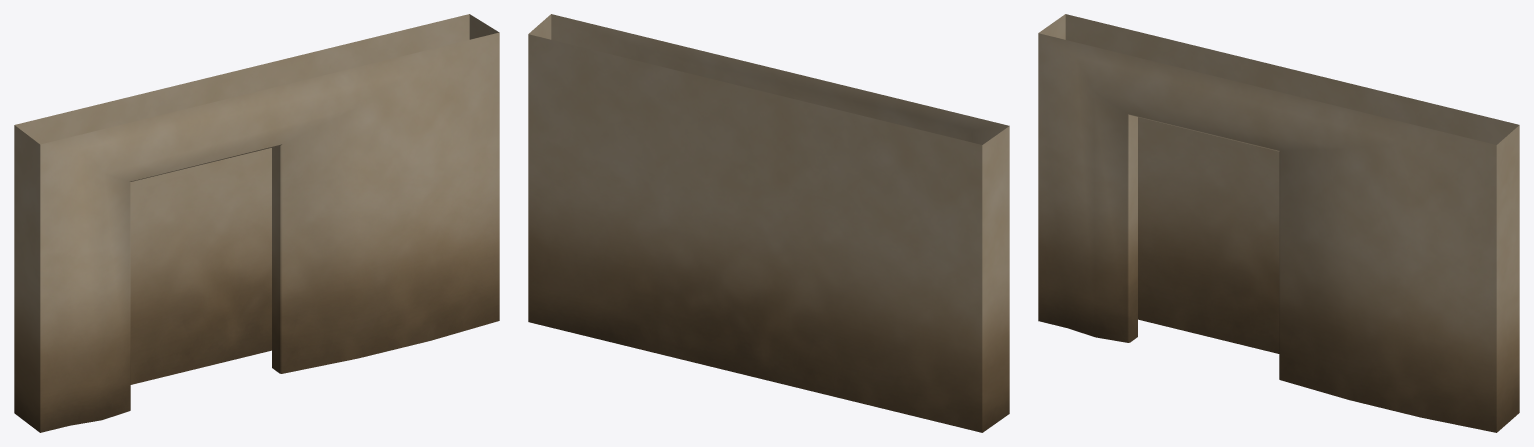
The model's file is WallShopA01.fbx.
3 views of the same model, side by side, from view 1: azimuth 30°, elevation 25°; view 2: azimuth 150°, elevation 25°; view 3: azimuth 330°, elevation 25° (orthographic).
Visible parts, largest first — view 1: WallShopA01; view 2: WallShopA01; view 3: WallShopA01.
Boxes of the visible parts, x1=… form: WallShopA01: x1=14, y1=14, x2=499, y2=432; WallShopA01: x1=528, y1=14, x2=1009, y2=432; WallShopA01: x1=1038, y1=14, x2=1519, y2=432.
Bounding box in the file's own units: 6.1 × 3.66 × 0.7185.
